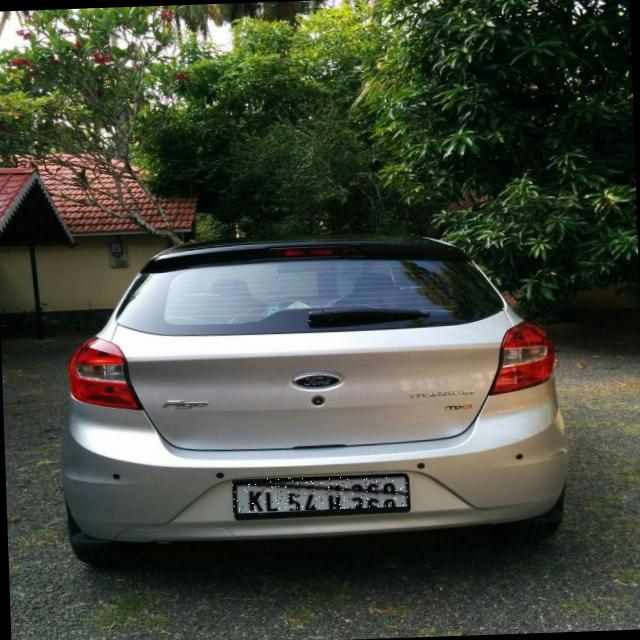Plate: (233, 474, 409, 513)
